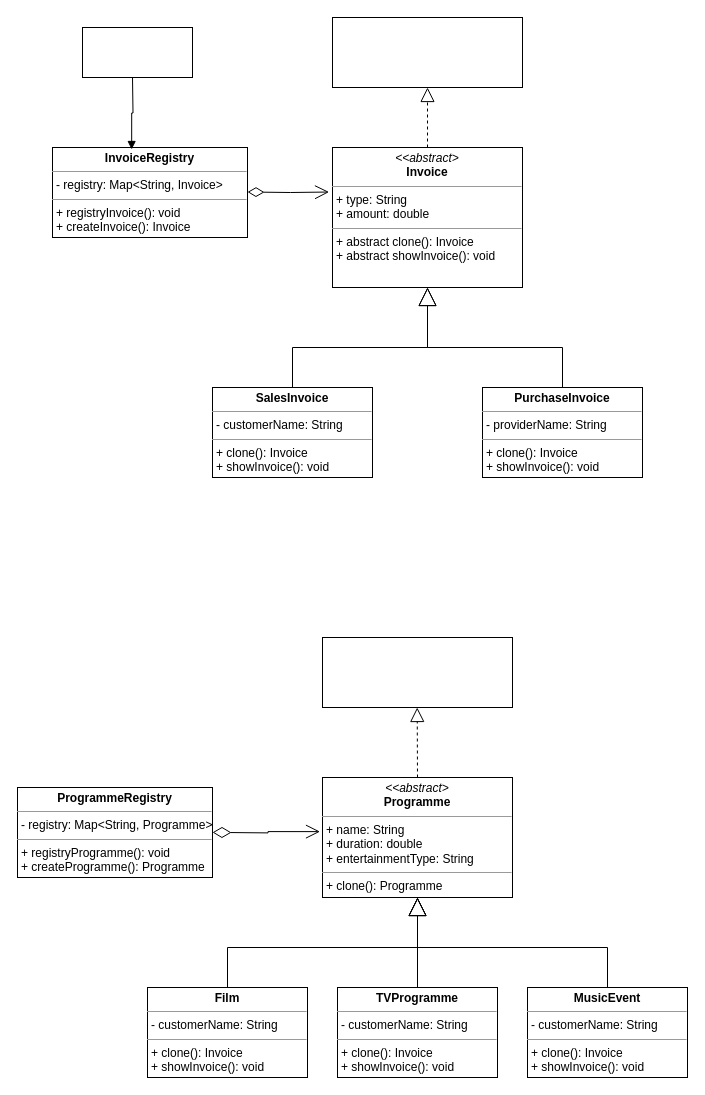
Some shapes in this 705 by 1095 pixel diagram are drawn without their labels. The shapes that lost their labels are listed below. From the top down, each one's centre as x and y in pixels, then its label:
pixel 137 52: Client
pixel 427 52: <<Interface>> ICloneableInvoice + clone(): Invoice
pixel 417 672: <<Interface>> ICloneableProgramme + clone(): Programme
